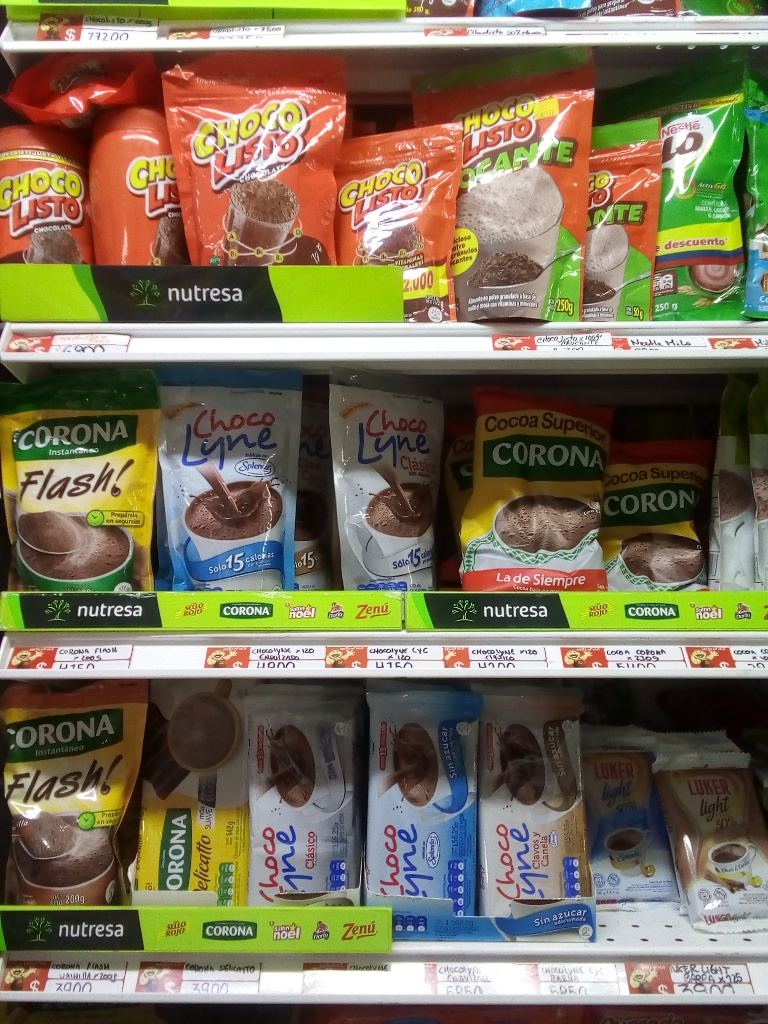COL0170102DYP10000: (584, 116, 664, 328)
COL0170102DYP25000: (420, 50, 593, 320)
COL0170103DYP20000: (173, 51, 344, 270)
COL0170103TRR00100: (3, 123, 91, 268)
COL0170103TRR30000: (85, 104, 182, 270)
COL0170203DYP25000: (606, 48, 765, 321)
